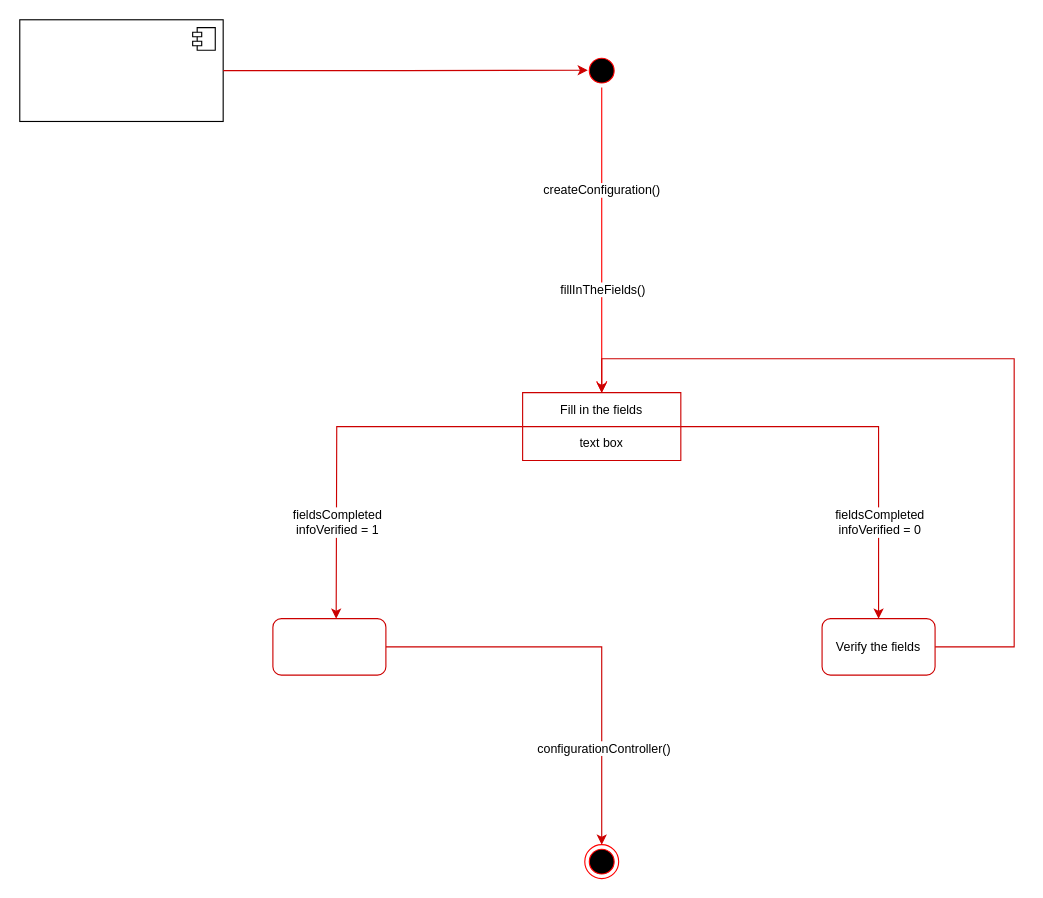
This 1043x898 diagram has some shape labels left out. Here are the shapes that lost their labels. From the top down, the centre of each, then its label:
(121,70): Hardware configuration request
(329,646): Exist
